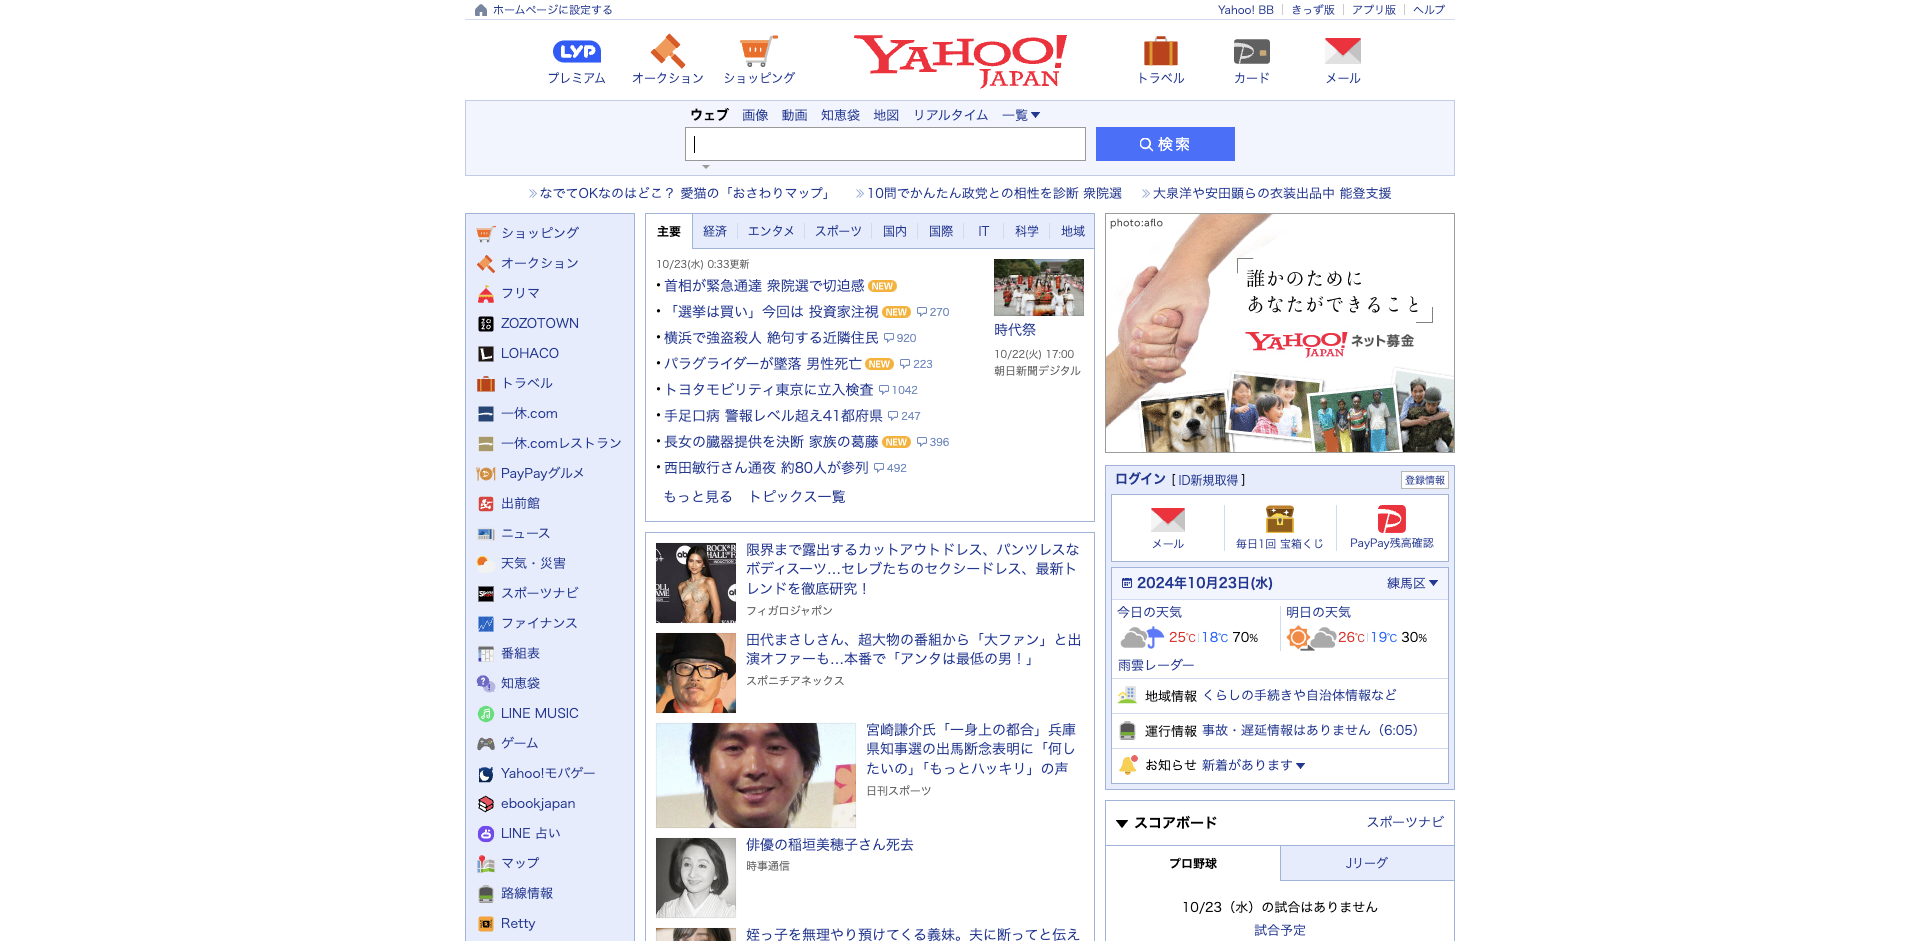button: (1096, 127, 1236, 161)
input: (684, 127, 1086, 161)
link: (656, 723, 1084, 828), (656, 543, 1084, 622), (656, 633, 1084, 713), (656, 838, 1084, 918), (1112, 678, 1449, 713), (1112, 747, 1449, 783), (1112, 713, 1449, 747), (853, 36, 1067, 89), (994, 259, 1084, 379), (1112, 495, 1224, 561), (1336, 495, 1449, 561), (1224, 495, 1336, 561), (1117, 605, 1273, 651), (1286, 605, 1442, 651), (1104, 845, 1281, 881), (1280, 845, 1453, 881), (656, 928, 1084, 941), (529, 186, 835, 203), (467, 249, 634, 279), (467, 309, 634, 339), (467, 369, 634, 399), (467, 429, 634, 459), (467, 518, 634, 549), (467, 578, 634, 609), (467, 638, 634, 669), (467, 698, 634, 729), (467, 758, 634, 789), (467, 818, 634, 849), (467, 879, 634, 909), (467, 219, 634, 249), (467, 279, 634, 309), (467, 339, 634, 369), (467, 399, 634, 429), (467, 459, 634, 489), (467, 489, 634, 518), (467, 549, 634, 578), (467, 609, 634, 638), (467, 669, 634, 698), (467, 729, 634, 758), (467, 789, 634, 818), (467, 849, 634, 879), (467, 909, 634, 939), (1104, 441, 1455, 455), (856, 186, 1122, 203), (1142, 186, 1391, 203), (656, 357, 933, 371), (656, 305, 949, 319), (656, 435, 949, 448), (656, 382, 918, 397), (1124, 32, 1196, 85), (1216, 32, 1288, 85), (632, 32, 704, 85), (724, 32, 796, 85), (1308, 32, 1379, 85), (541, 32, 612, 85), (656, 461, 907, 475), (656, 409, 921, 423), (656, 331, 916, 344), (656, 279, 898, 293), (804, 214, 872, 249), (738, 214, 804, 249), (1466, 892, 1510, 936), (1122, 577, 1273, 589), (475, 4, 613, 16), (645, 214, 693, 249), (692, 214, 738, 249), (872, 214, 918, 249), (1004, 214, 1051, 249), (918, 214, 964, 249), (1051, 214, 1096, 249), (964, 214, 1004, 249), (748, 490, 845, 504), (1367, 816, 1444, 830), (912, 109, 988, 123), (662, 490, 733, 504), (1118, 659, 1195, 671), (1401, 470, 1449, 489), (1178, 473, 1238, 486), (1254, 924, 1307, 937), (1116, 473, 1166, 486), (1218, 4, 1275, 15), (1387, 577, 1438, 589), (689, 109, 729, 123), (820, 109, 860, 123), (684, 161, 727, 173), (1002, 109, 1040, 123), (1291, 4, 1335, 15), (1352, 4, 1396, 15), (467, 939, 634, 941), (781, 109, 808, 123), (1413, 4, 1445, 15), (742, 109, 768, 123), (873, 109, 899, 123)
